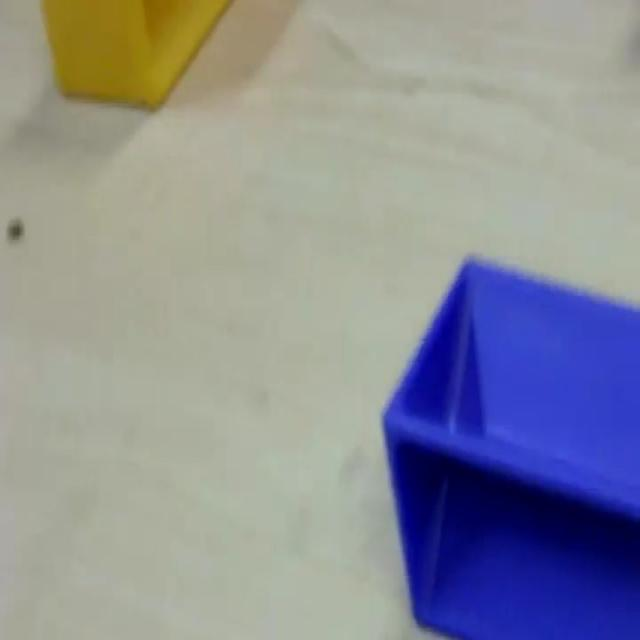blue_block: (381, 252, 638, 636)
yellow_block: (38, 0, 233, 111)
